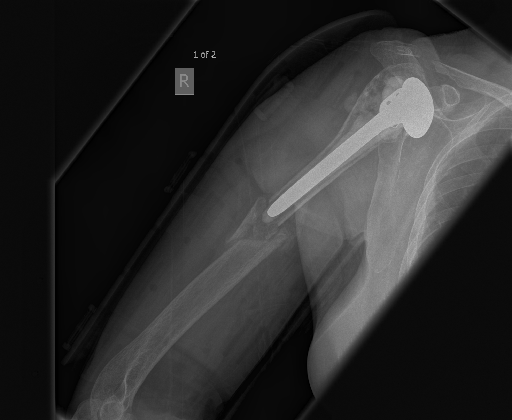implant: (265, 75, 437, 217)
